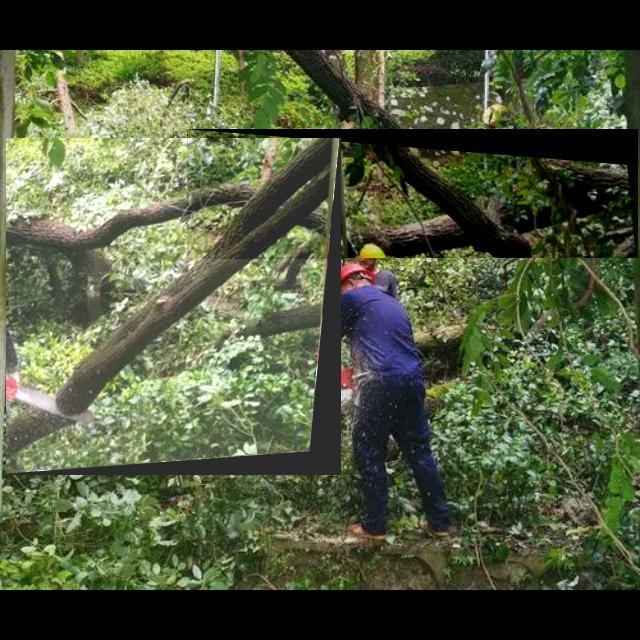fallen_tree: (6, 138, 342, 476), (187, 129, 639, 259)
